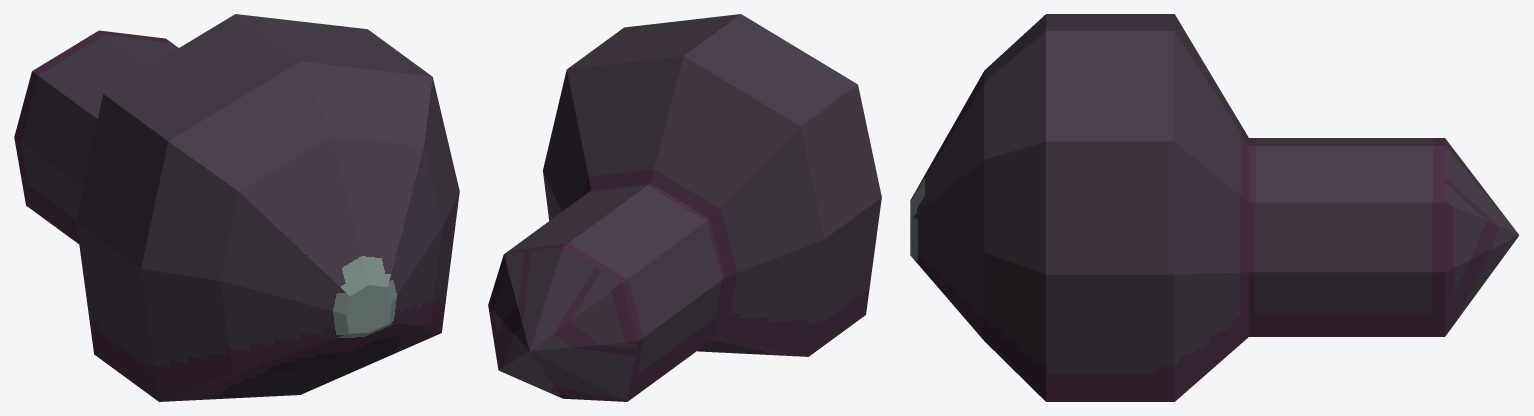
Rendered from spider_body.glb.
The picture shows the model from 3 angles, left to right: view 1: azimuth 30°, elevation 25°; view 2: azimuth 150°, elevation 25°; view 3: azimuth 270°, elevation 25°; orthographic projection. The views are drawn at different scales.
Parts seen in each view (by area): view 1: Cube.027; view 2: Cube.027; view 3: Cube.027.
Boxes of the visible parts, bbox=[...] form: Cube.027: bbox=[14, 14, 459, 401]; Cube.027: bbox=[488, 14, 881, 401]; Cube.027: bbox=[910, 14, 1519, 401].
Bounding box in the file's own units: 3.31 × 3.31 × 5.53.
1 material, 1 textured.
